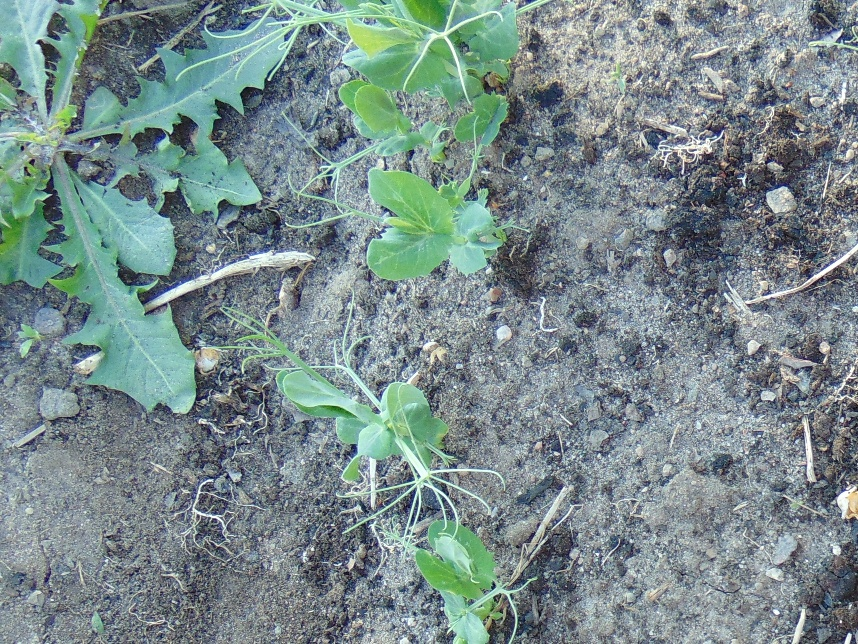crop: (272, 1, 541, 175), (254, 320, 465, 517), (304, 160, 529, 280), (386, 512, 524, 641)
weed: (1, 1, 272, 413), (40, 142, 199, 418), (2, 7, 288, 125), (11, 324, 47, 358)
